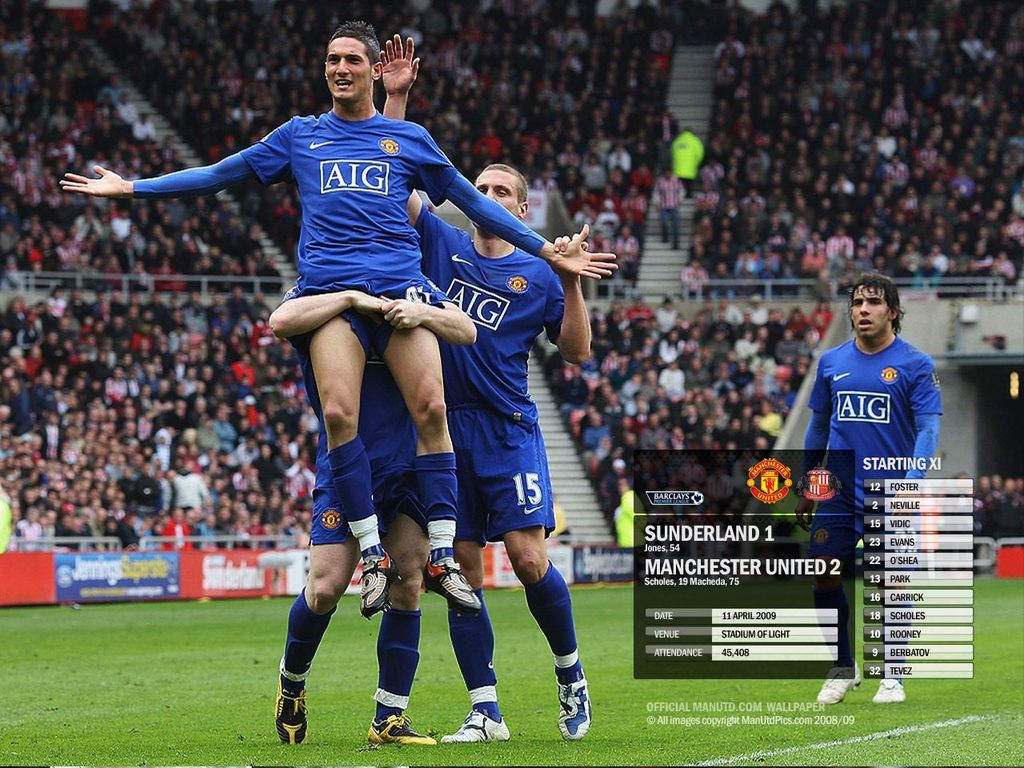Person: (1, 0, 1024, 546), (378, 32, 593, 741), (267, 269, 477, 745), (794, 269, 942, 704)
